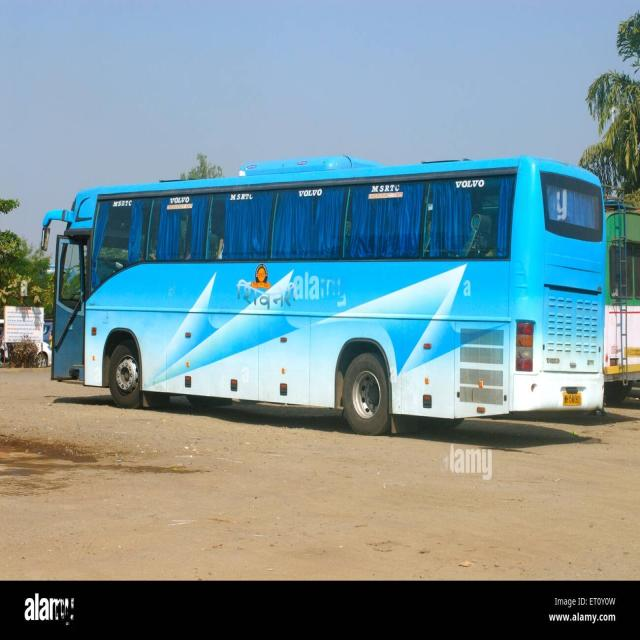bus: (41, 156, 605, 433)
